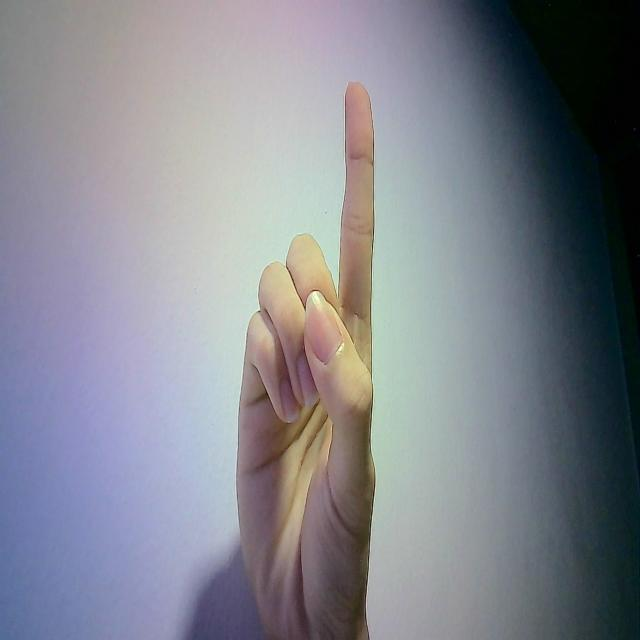D: (230, 63, 388, 640)
